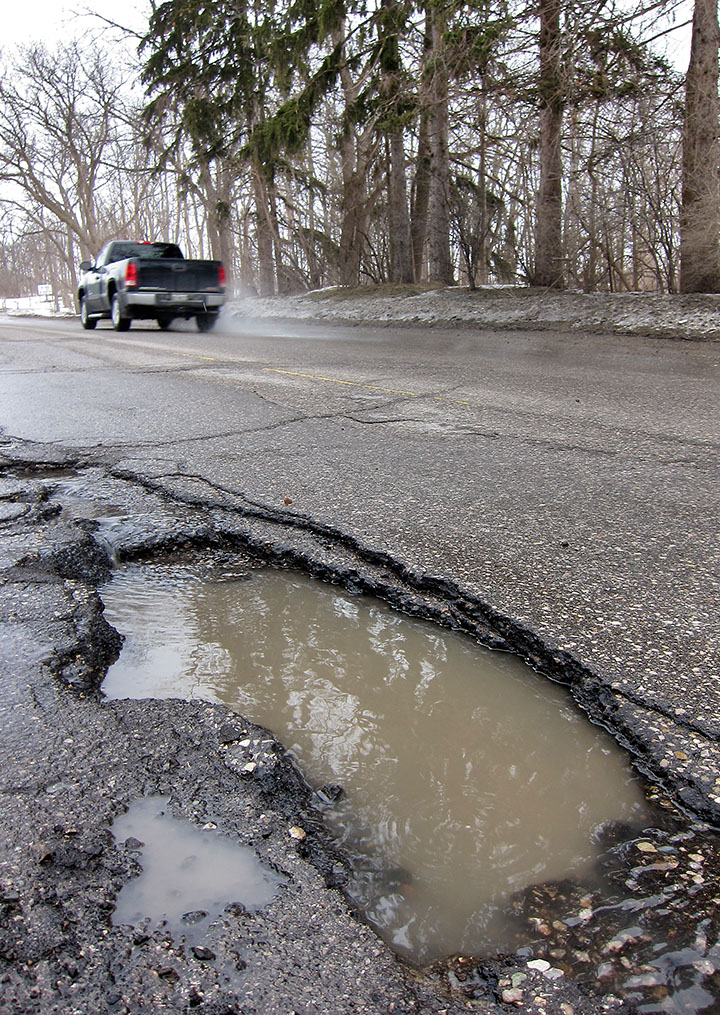pothole: (32, 511, 669, 953)
